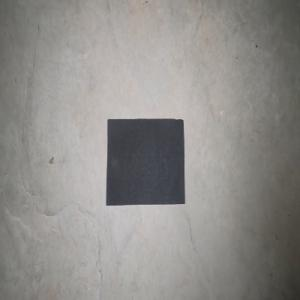PaintChip: (106, 118, 185, 205)
